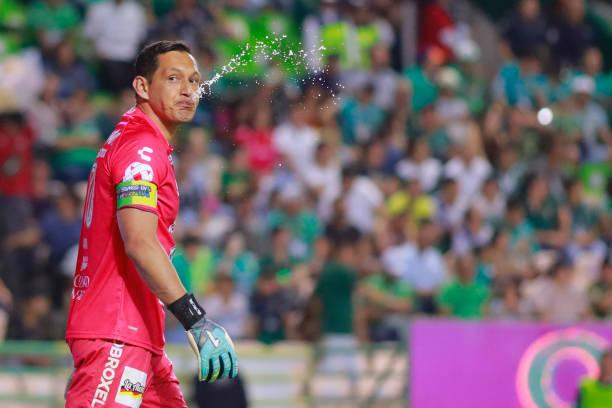Spitting: (107, 14, 233, 126)
